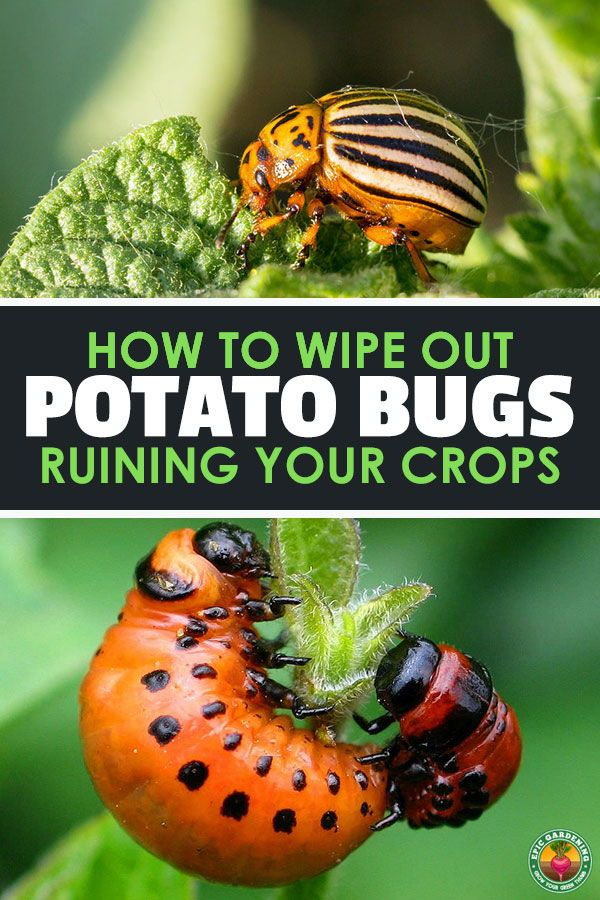hrosc: (213, 82, 483, 284)
